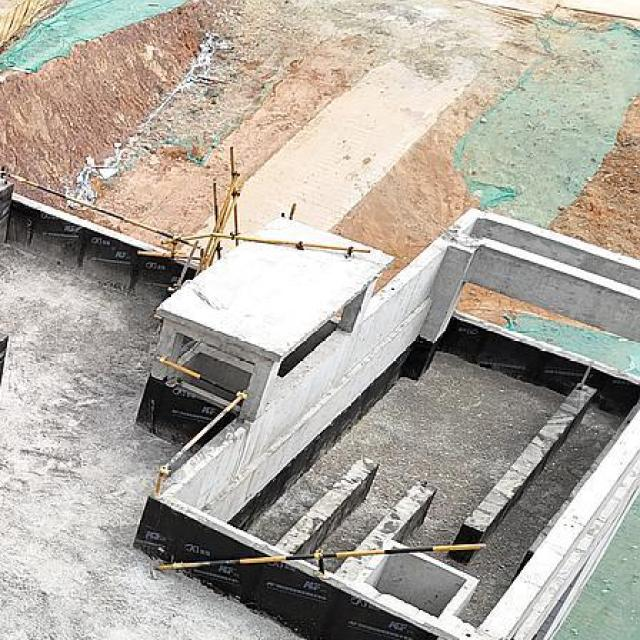Guardrail: (0, 164, 201, 259), (151, 352, 253, 498), (156, 542, 488, 575), (210, 231, 370, 256)
